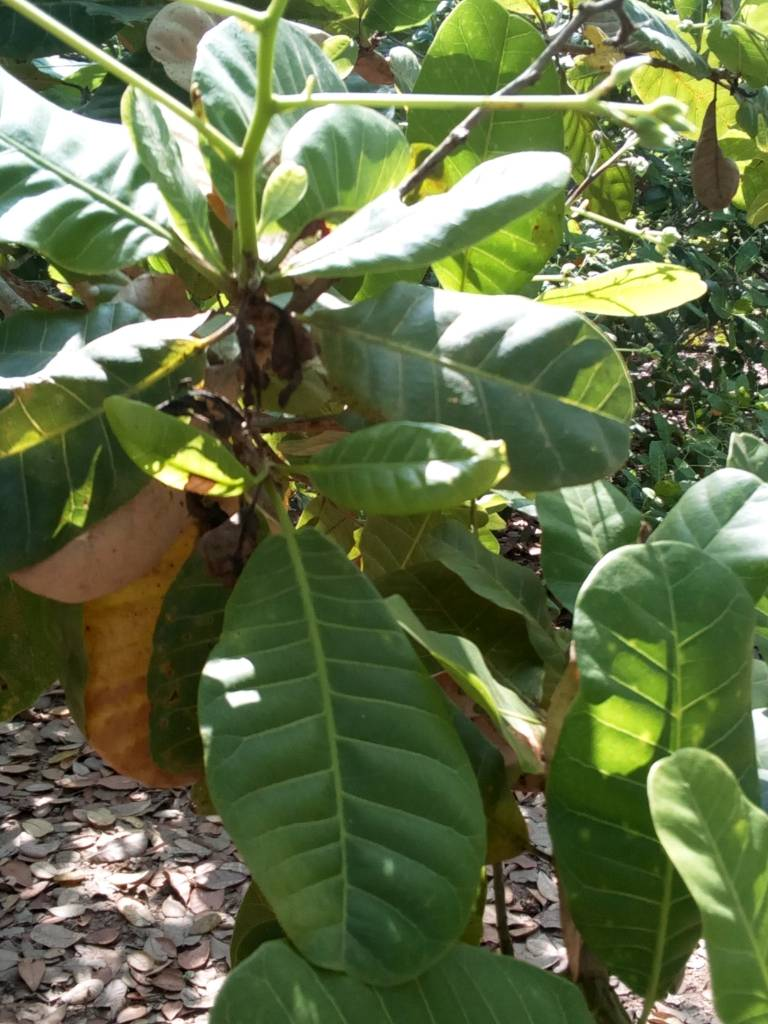Dessèchement des bourgeons: (208, 288, 325, 455)
